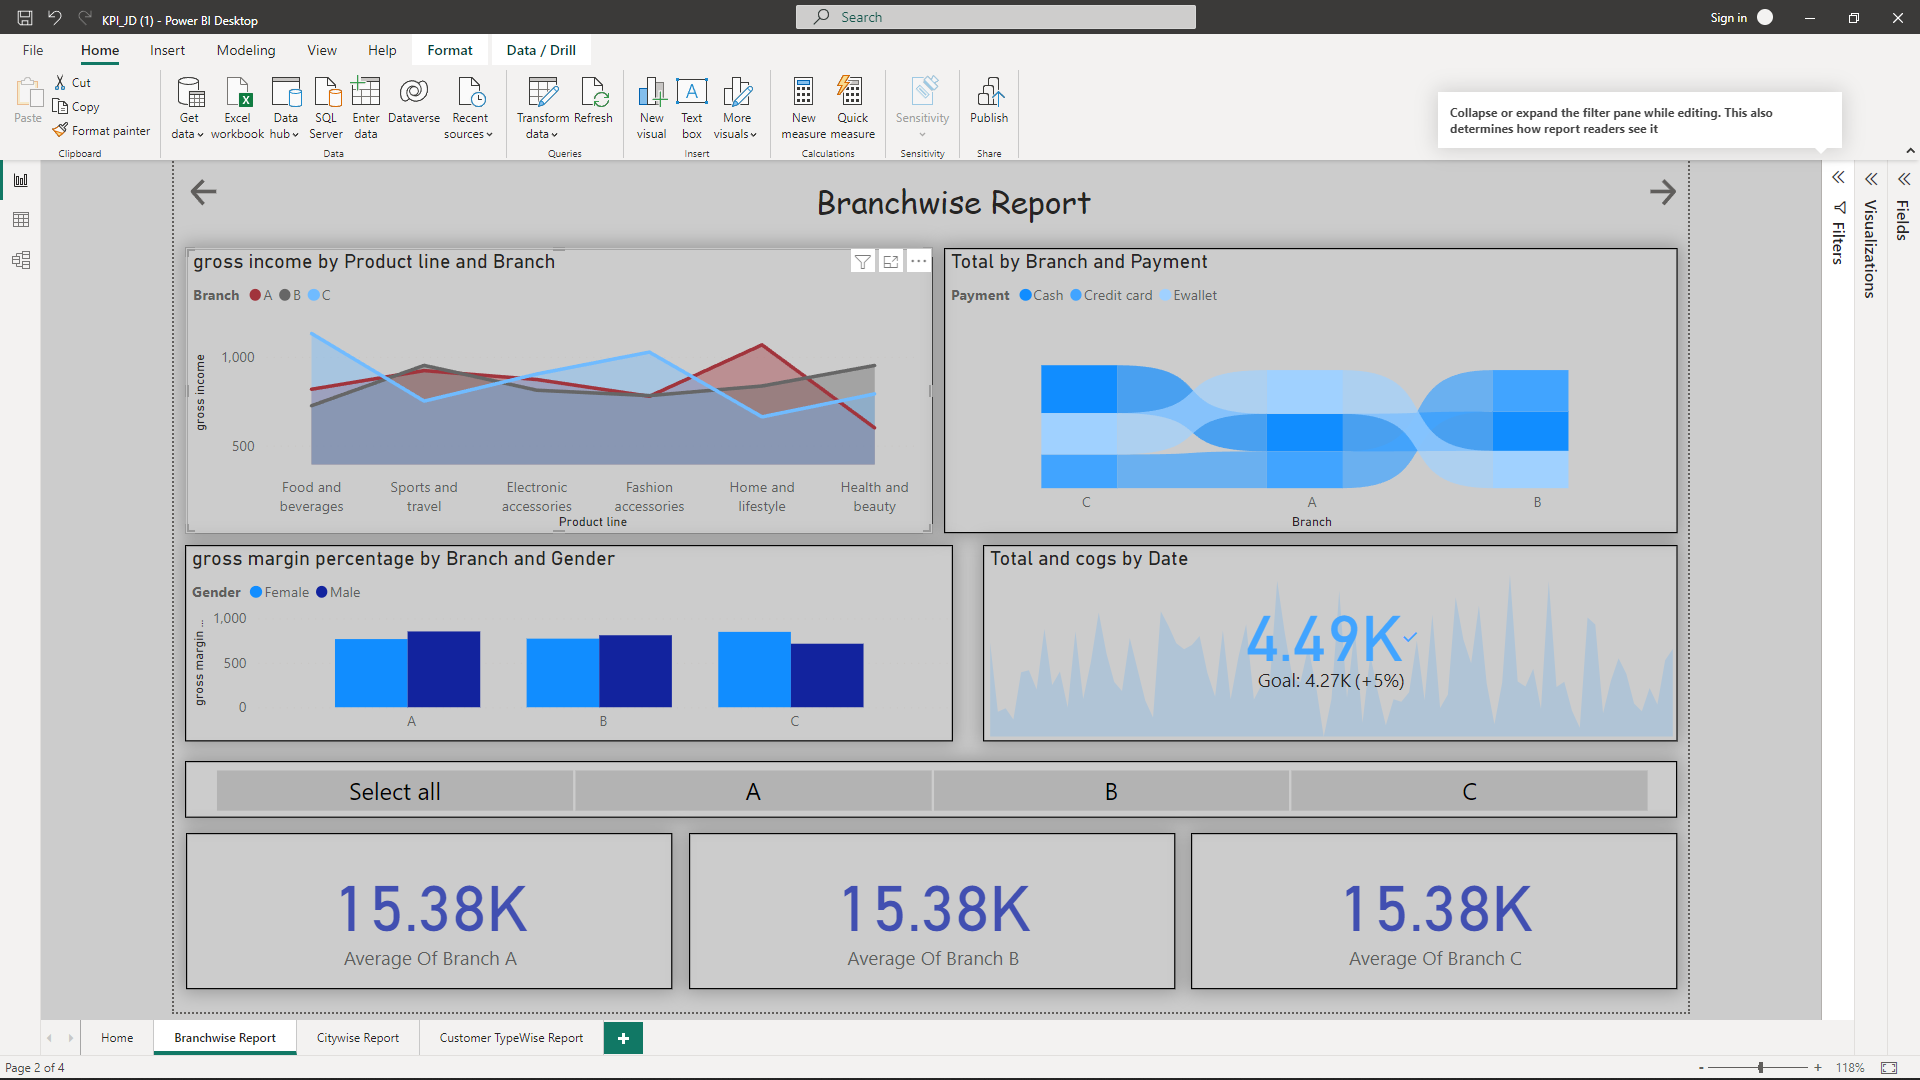

Layout of this report page (visuals, bound fields, positions):
{"tool":"powerbi","page":{"name":"Branchwise Report","canvas":[1280,720],"ordinal":1},"visuals":[{"type":"areaChart","fields":{"Category":["supersales - powr bi.Product line"],"Y":["Sum(supersales - powr bi.gross income)"],"Series":["supersales - powr bi.Branch"]},"box":[9.8,74.6,630.8,240.8],"z":0},{"type":"ribbonChart","fields":{"Category":["supersales - powr bi.Branch"],"Y":["Sum(supersales - powr bi.Total)"],"Series":["supersales - powr bi.Payment"]},"box":[650.3,74.6,619.8,240.8],"z":1000},{"type":"clusteredColumnChart","fields":{"Category":["supersales - powr bi.Branch"],"Y":["Sum(supersales - powr bi.gross margin percentage)"],"Series":["supersales - powr bi.Gender"]},"box":[9.5,325.2,649.5,166.5],"z":2000},{"type":"kpi","fields":{"TrendLine":["supersales - powr bi.Date"],"Goal":["Sum(supersales - powr bi.cogs)"],"Indicator":["Sum(supersales - powr bi.Total)"]},"box":[684,325.2,586.5,166.5],"z":3000},{"type":"card","fields":{"Values":["Avg(supersales - powr bi.Total Profit Of Branch A)"]},"box":[9.8,568.4,410.7,132],"z":4000},{"type":"card","fields":{"Values":["Avg(supersales - powr bi.Total Profit Of Branch B)"]},"box":[435.2,568.4,410.7,132],"z":5000},{"type":"card","fields":{"Values":["Avg(supersales - powr bi.Total Profit Of Branch C)"]},"box":[859.4,568.4,410.7,132],"z":6000},{"type":"slicer","fields":{"Values":["supersales - powr bi.Branch"]},"box":[9.5,508,1261,48.3],"z":7000},{"type":"actionButton","box":[1242,12.2,37.9,30.6],"z":8000},{"type":"actionButton","box":[9.8,12.2,35.4,30.6],"z":9000},{"type":"textbox","box":[229.8,12.2,858.1,50.1],"z":10000}]}

Visuals, with their boxes on the page's 1280x720 design canvas (x1, y1, x2, y2). These are canvas units, not pixel positions in the 1920x1080 screenshot, which may show the page scaled, cropped or inside an application window:
areaChart - supersales - powr bi.Product line x Sum(supersales - powr bi.gross income): x1=10 y1=75 x2=641 y2=315
ribbonChart - supersales - powr bi.Branch x Sum(supersales - powr bi.Total): x1=650 y1=75 x2=1270 y2=315
clusteredColumnChart - supersales - powr bi.Branch x Sum(supersales - powr bi.gross margin percentage): x1=10 y1=325 x2=659 y2=492
kpi - supersales - powr bi.Date x Sum(supersales - powr bi.cogs): x1=684 y1=325 x2=1270 y2=492
card - Avg(supersales - powr bi.Total Profit Of Branch A): x1=10 y1=568 x2=420 y2=700
card - Avg(supersales - powr bi.Total Profit Of Branch B): x1=435 y1=568 x2=846 y2=700
card - Avg(supersales - powr bi.Total Profit Of Branch C): x1=859 y1=568 x2=1270 y2=700
slicer - supersales - powr bi.Branch: x1=10 y1=508 x2=1270 y2=556
actionButton: x1=1242 y1=12 x2=1280 y2=43
actionButton: x1=10 y1=12 x2=45 y2=43
textbox: x1=230 y1=12 x2=1088 y2=62
